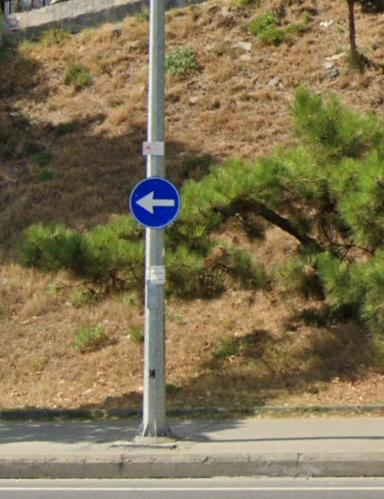turnleft: (130, 177, 181, 230)
